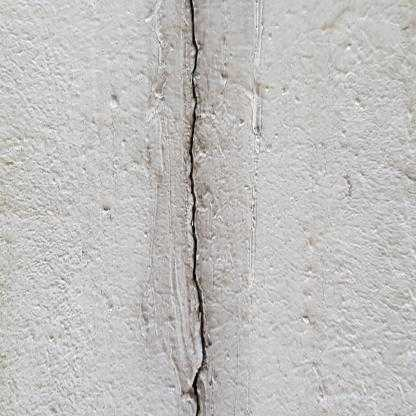crack: (188, 0, 207, 416)
